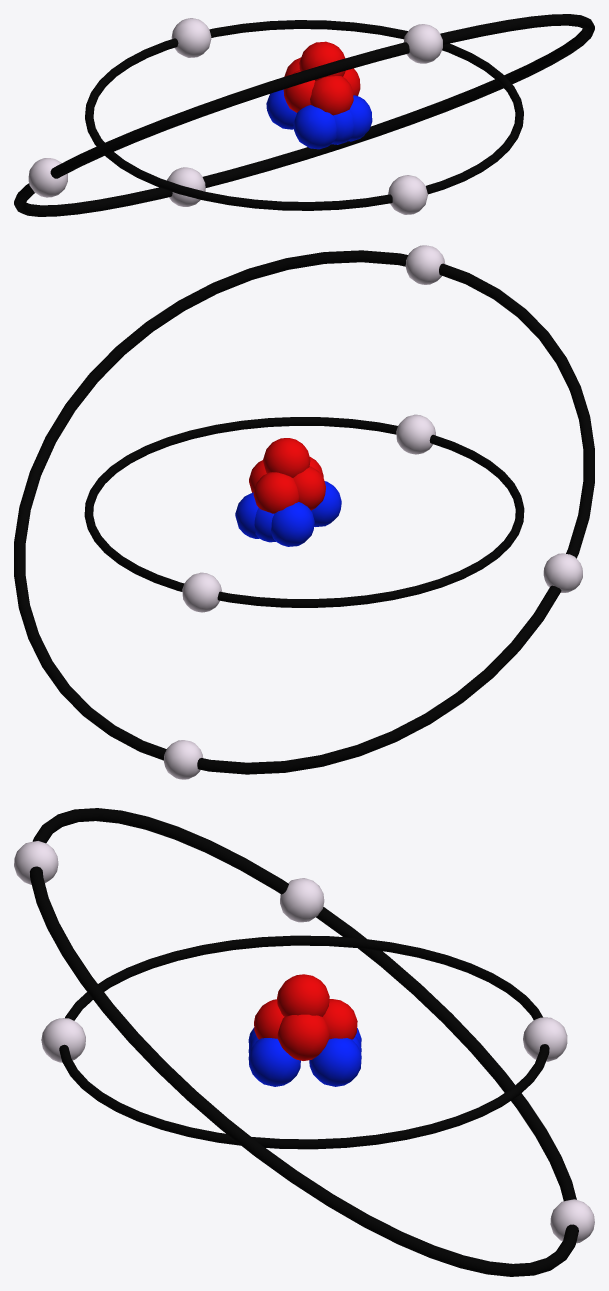
The model's file is 5 Boro.fbx.
The picture shows the model from 3 angles, top to bottom: view 1: azimuth 30°, elevation 25°; view 2: azimuth 150°, elevation 25°; view 3: azimuth 270°, elevation 25°; orthographic projection. The views are drawn at different scales.
Visible parts, largest first — view 1: Orbita.002, Orbita.001, Sphere.008, Sphere.006, Electron.004, Electron.001, Electron.002, Electron.005, Sphere.007, Electron.003, Sphere, Sphere.009 (+3 smaller); view 2: Orbita.002, Orbita.001, Sphere, Sphere.005, Sphere.007, Electron.001, Electron.004, Electron.005, Electron.003, Electron.002, Sphere.003, Sphere.008 (+1 smaller); view 3: Orbita.002, Orbita.001, Sphere.004, Sphere.001, Sphere.007, Sphere.009, Electron.005, Electron.004, Electron.001, Electron.003, Electron.002, Sphere.005 (+1 smaller).
Part boxes in pixels (x1,y1,x2,y2): Orbita.002: (14, 14, 594, 216); Orbita.001: (85, 20, 523, 210); Sphere.008: (293, 105, 336, 149); Sphere.006: (310, 76, 353, 115); Electron.004: (388, 175, 427, 214); Electron.001: (171, 18, 211, 57); Electron.002: (403, 24, 442, 63); Electron.005: (28, 158, 67, 197); Sphere.007: (299, 41, 345, 80); Electron.003: (167, 167, 205, 206); Sphere: (266, 89, 296, 129); Sphere.009: (348, 95, 372, 141); Orbita.002: (14, 250, 594, 774); Orbita.001: (84, 417, 524, 607); Sphere: (271, 502, 314, 546); Sphere.005: (253, 472, 298, 513); Sphere.007: (263, 438, 310, 477); Electron.001: (182, 572, 222, 612); Electron.004: (396, 414, 435, 454); Electron.005: (543, 553, 582, 592); Electron.003: (164, 740, 203, 779); Electron.002: (405, 245, 445, 284); Sphere.003: (293, 466, 325, 510); Sphere.008: (311, 481, 341, 526); Orbita.002: (30, 808, 578, 1276); Orbita.001: (59, 935, 549, 1149); Sphere.004: (277, 1014, 328, 1060); Sphere.001: (309, 1038, 361, 1086); Sphere.007: (277, 974, 329, 1016); Sphere.009: (248, 1038, 300, 1086); Electron.005: (280, 878, 324, 922); Electron.004: (41, 1018, 85, 1062); Electron.001: (523, 1017, 567, 1061); Electron.003: (550, 1199, 594, 1243); Electron.002: (14, 841, 58, 884); Sphere.005: (323, 999, 357, 1039).
Bounding box in the file's own units: 8.78 × 10.51 × 6.63.
